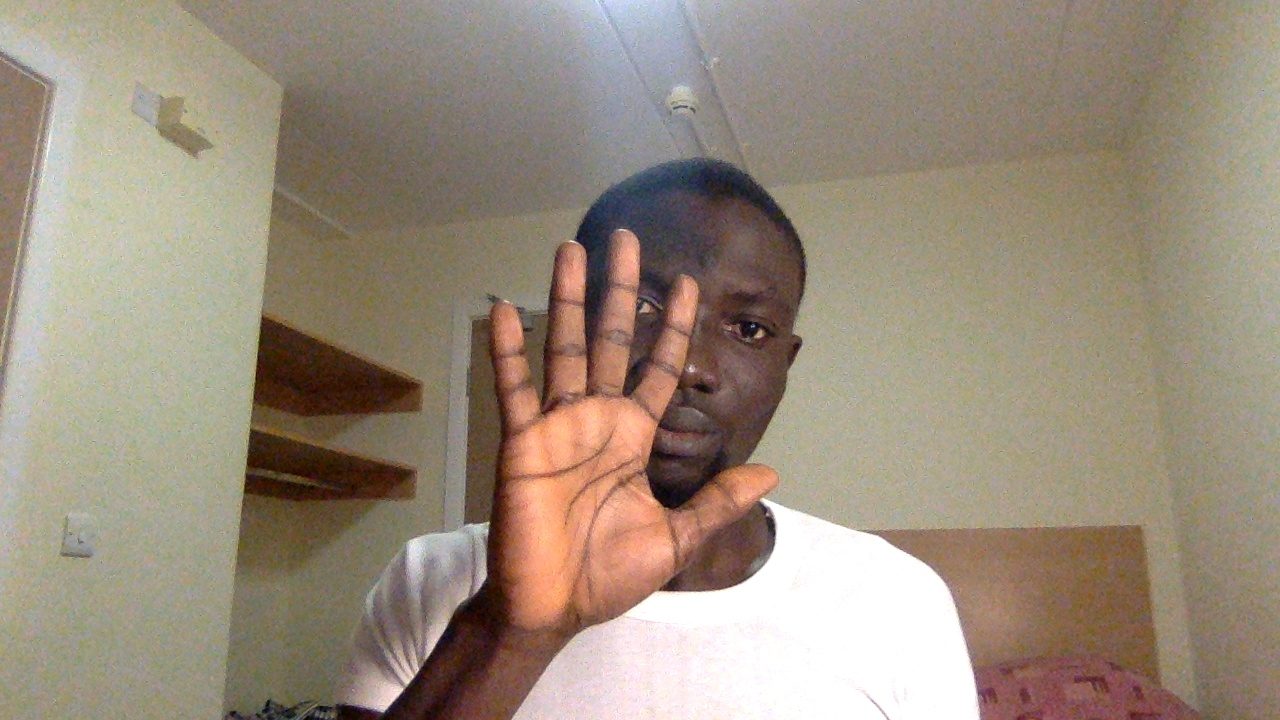Hello: (437, 215, 791, 649)
